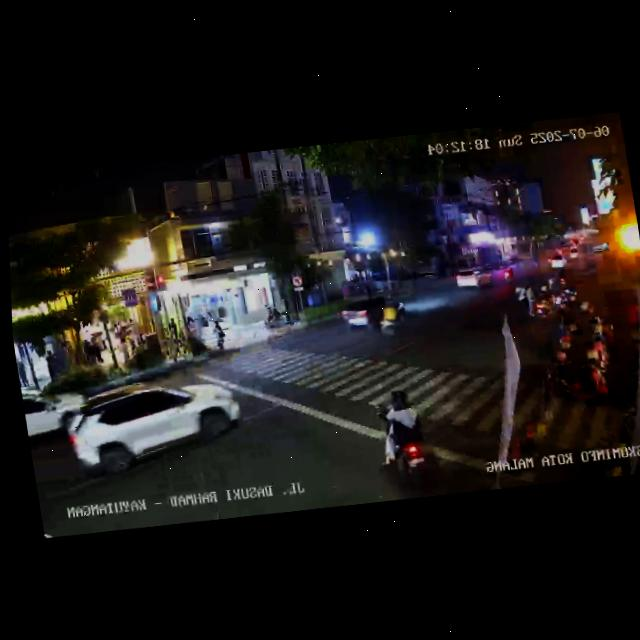car: (60, 370, 250, 486), (337, 289, 395, 333), (451, 263, 496, 295), (548, 251, 568, 272)
motorcycle: (370, 385, 434, 489), (374, 298, 408, 336), (527, 283, 554, 320)
person: (117, 333, 131, 370), (91, 333, 106, 366), (43, 348, 58, 381), (212, 319, 227, 351), (82, 336, 96, 367), (16, 357, 30, 387)
